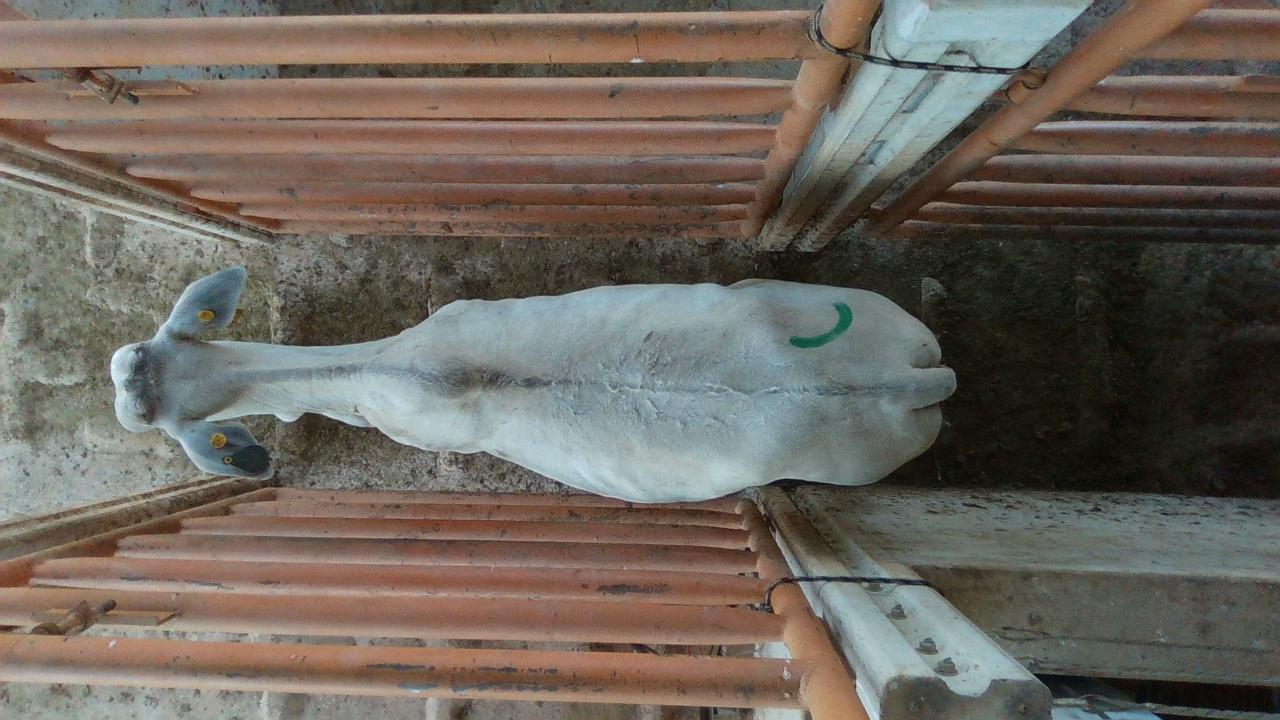cattle: (108, 264, 958, 504)
